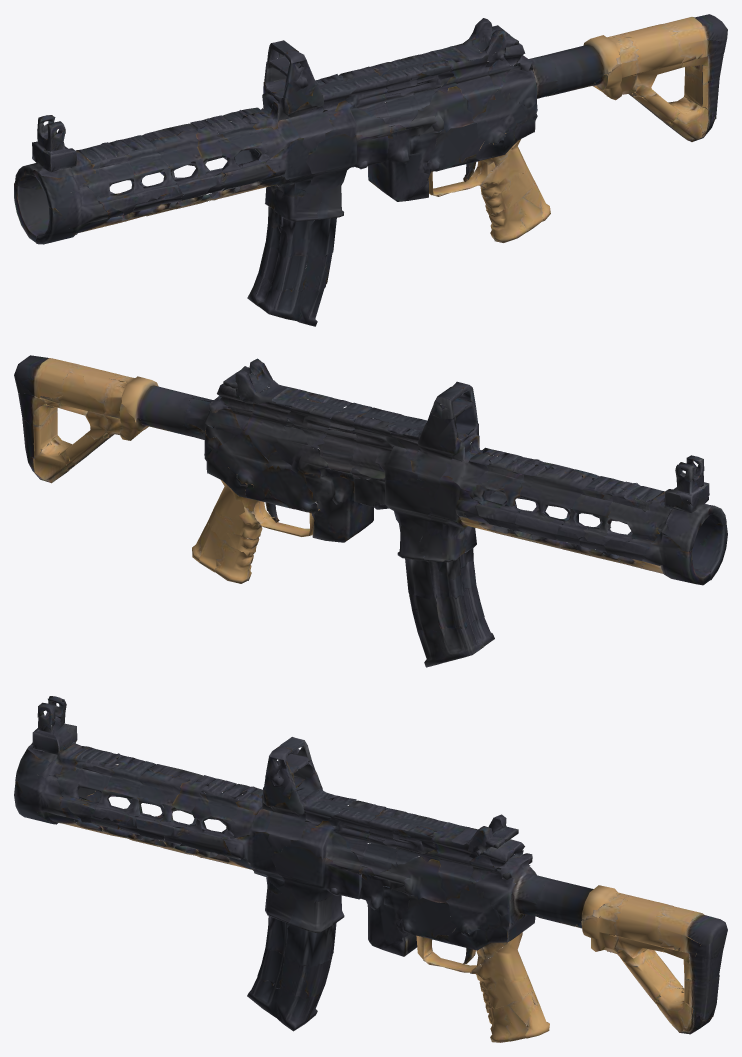
File: mg-meshy-low.glb
3 views of the same model, one above another, from view 1: azimuth 30°, elevation 25°; view 2: azimuth 150°, elevation 25°; view 3: azimuth 330°, elevation 25° (orthographic).
Parts seen in each view (by area): view 1: Mesh_0.010; view 2: Mesh_0.010; view 3: Mesh_0.010.
Part boxes in pixels (x1,y1,x2,y2): Mesh_0.010: [14, 14, 727, 326]; Mesh_0.010: [14, 355, 727, 667]; Mesh_0.010: [14, 696, 727, 1042].
Bounding box in the file's own units: 1.9 × 0.7245 × 0.2202.
1 material, 1 textured.
